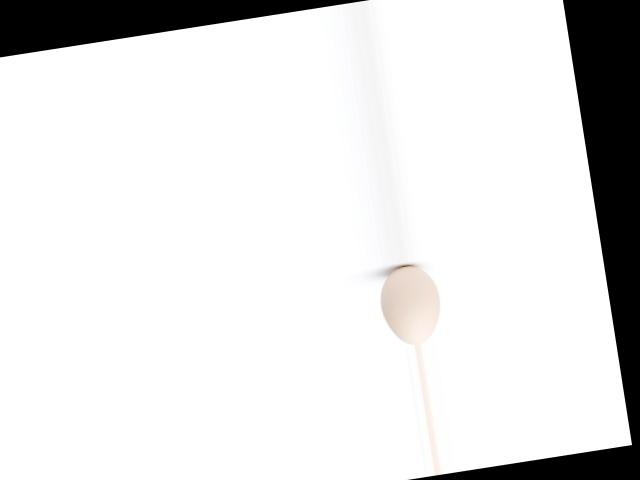egg: (376, 260, 446, 348)
